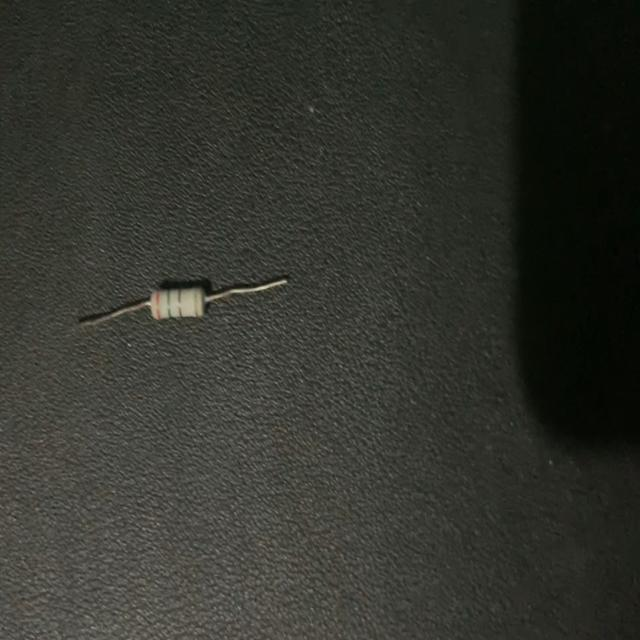resistor: (81, 278, 289, 319)
